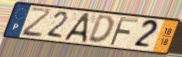2: (131, 19, 160, 52), (43, 10, 70, 42)
A: (62, 13, 92, 44)
D: (86, 15, 115, 46)
F: (107, 15, 141, 47)
Z: (21, 7, 54, 39)
